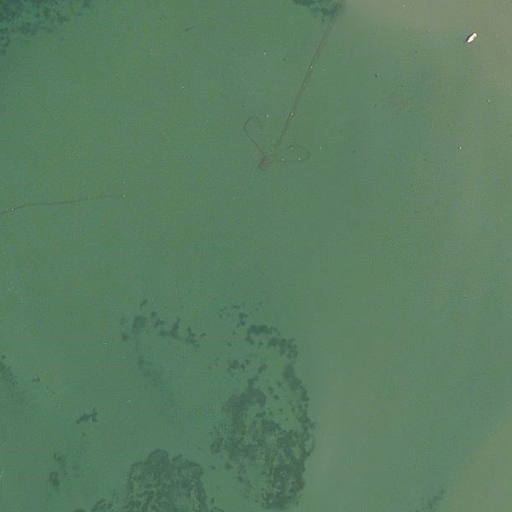ship: (468, 32, 478, 42)
